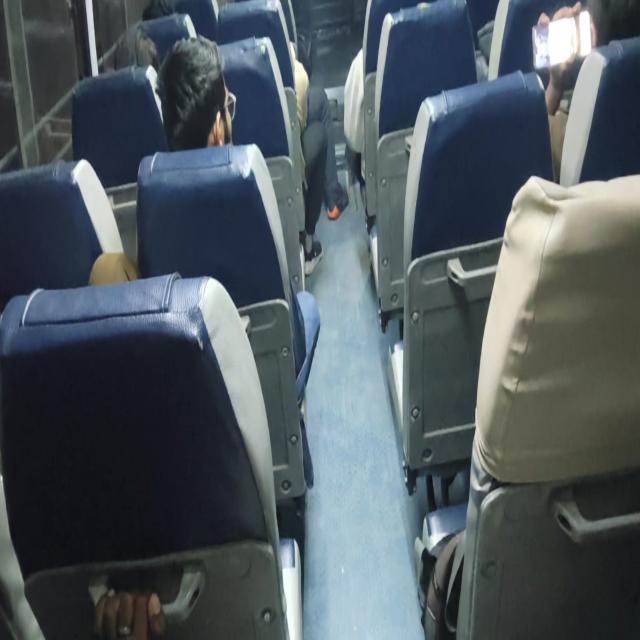person: (163, 48, 240, 152), (95, 20, 166, 70), (583, 0, 640, 50)
